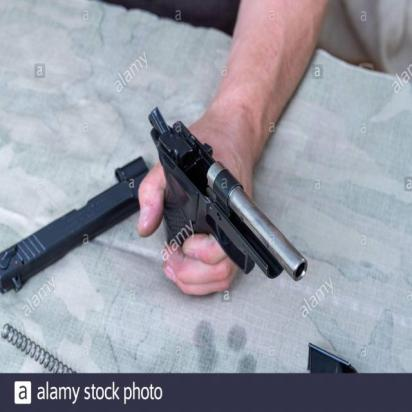Gun: (146, 106, 310, 296)
